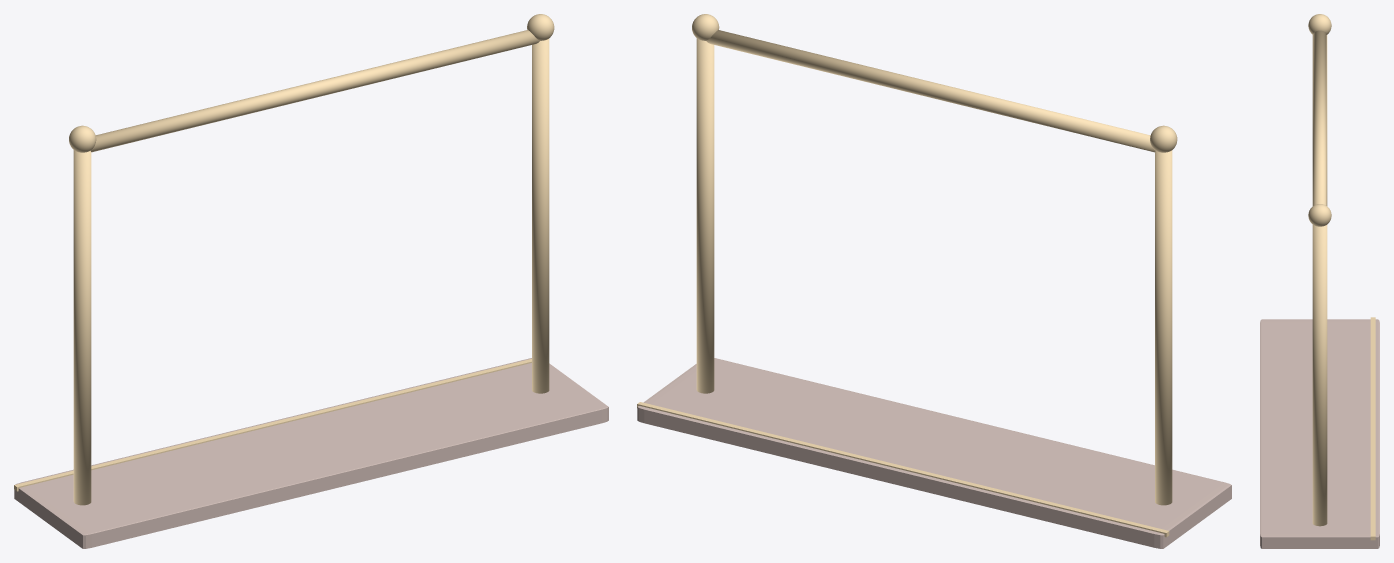
The model's file is garment-rack.glb.
3 renders of one model, left to right at view 1: azimuth 30°, elevation 25°; view 2: azimuth 150°, elevation 25°; view 3: azimuth 270°, elevation 25°, orthographic. The views are drawn at different scales.
Parts seen in each view (by area): view 1: rack_shelf, rack_bar, rack_pole_-1, rack_pole_1, rack_trim; view 2: rack_shelf, rack_bar, rack_pole_1, rack_pole_-1, rack_trim; view 3: rack_shelf, rack_pole_1, rack_bar, rack_trim, rack_pole_-1, rack_finial_1, rack_finial_-1.
Part boxes in pixels (x1=…): rack_shelf: x1=14, y1=358, x2=608, y2=548; rack_bar: x1=90, y1=30, x2=539, y2=152; rack_pole_-1: x1=73, y1=150, x2=91, y2=505; rack_pole_1: x1=532, y1=38, x2=549, y2=393; rack_trim: x1=14, y1=359, x2=531, y2=491; rack_shelf: x1=637, y1=358, x2=1231, y2=548; rack_bar: x1=706, y1=30, x2=1155, y2=152; rack_pole_1: x1=696, y1=38, x2=714, y2=393; rack_pole_-1: x1=1155, y1=150, x2=1172, y2=505; rack_trim: x1=637, y1=402, x2=1169, y2=537; rack_shelf: x1=1260, y1=319, x2=1379, y2=548; rack_pole_1: x1=1312, y1=225, x2=1327, y2=526; rack_bar: x1=1313, y1=30, x2=1326, y2=205; rack_trim: x1=1370, y1=317, x2=1375, y2=540; rack_pole_-1: x1=1312, y1=35, x2=1327, y2=205; rack_finial_1: x1=1308, y1=204, x2=1331, y2=226; rack_finial_-1: x1=1308, y1=14, x2=1331, y2=34.
Size of the model in its own units: 3.12 by 2.19 by 0.72.
